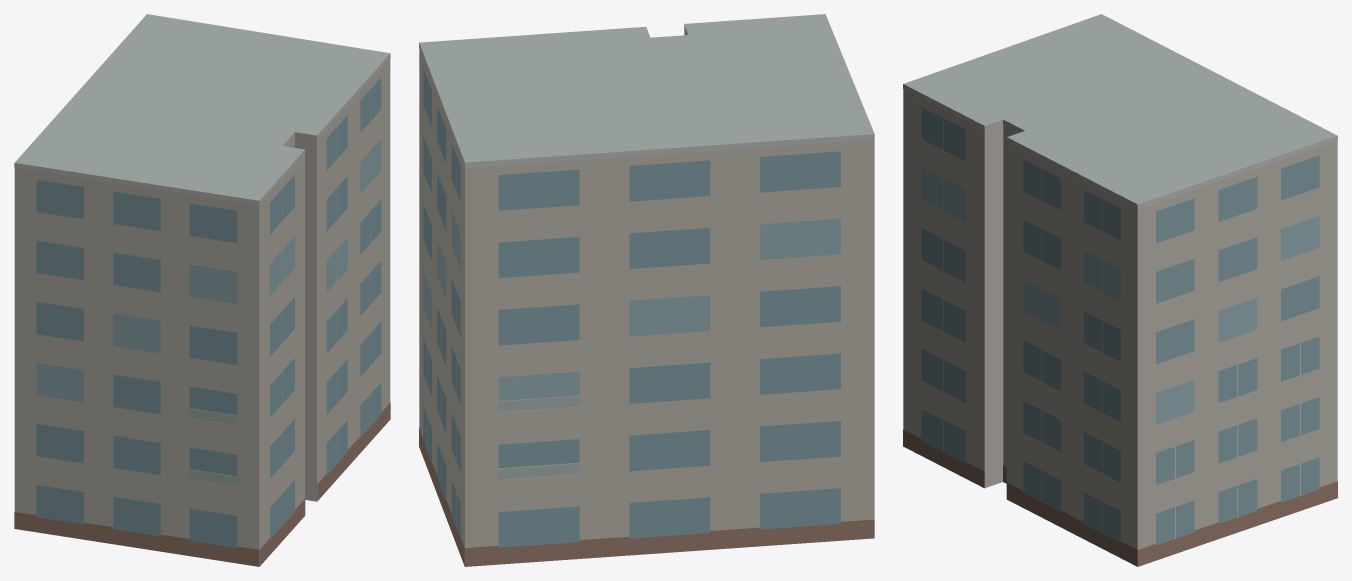
File: survey-upis-32982217.glb
3 renders of one model, left to right at view 1: azimuth 30°, elevation 25°; view 2: azimuth 150°, elevation 25°; view 3: azimuth 270°, elevation 25°, orthographic. The views are drawn at different scales.
Visible parts, largest first — view 1: survey-upis-32982217.tmp; view 2: survey-upis-32982217.tmp; view 3: survey-upis-32982217.tmp.
Part boxes in pixels (x1,y1,x2,y2): survey-upis-32982217.tmp: (14,14,390,566); survey-upis-32982217.tmp: (419,14,874,566); survey-upis-32982217.tmp: (903,14,1337,566).
Bounding box in the file's own units: 19.5 × 17.3 × 18.81.
